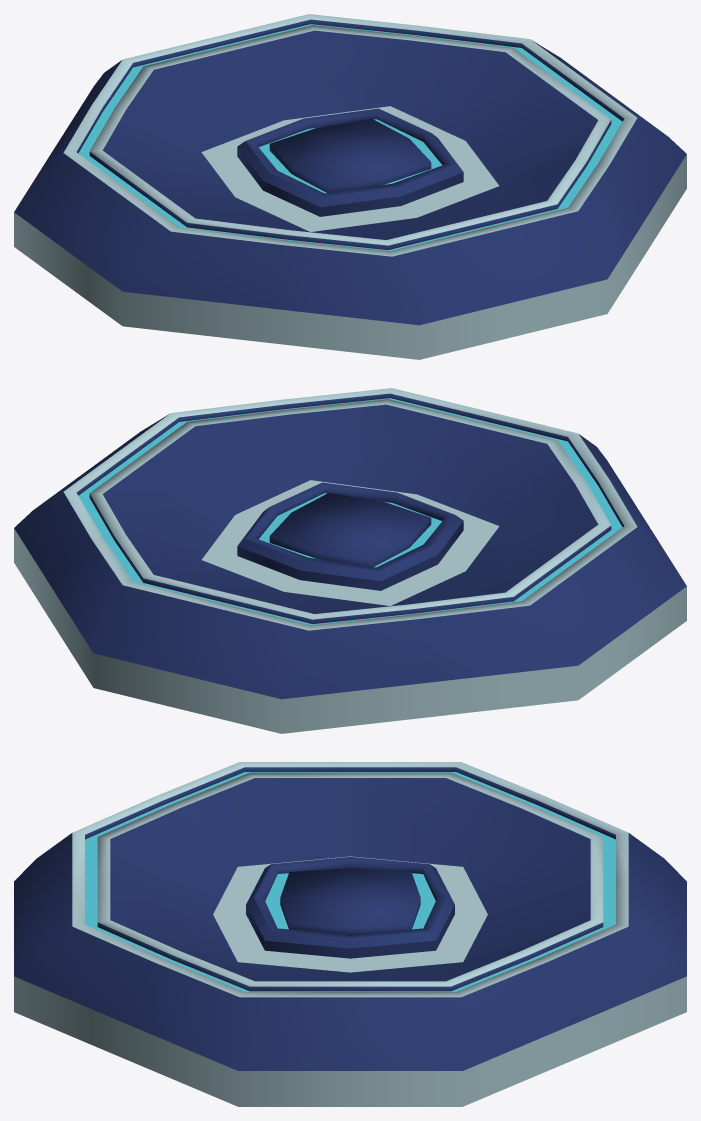
Rendered from fant_unit_spawner.obj.
The picture shows the model from 3 angles, top to bottom: view 1: azimuth 30°, elevation 25°; view 2: azimuth 150°, elevation 25°; view 3: azimuth 270°, elevation 25°; orthographic projection. The views are drawn at different scales.
Visible parts, largest first — view 1: fant_unit_spawner_Cube; view 2: fant_unit_spawner_Cube; view 3: fant_unit_spawner_Cube.
Boxes of the visible parts, <box> form: fant_unit_spawner_Cube: <box>14,14,686,359</box>; fant_unit_spawner_Cube: <box>14,388,686,733</box>; fant_unit_spawner_Cube: <box>14,762,686,1106</box>.
Size of the model in its own units: 3 by 0.4185 by 3.
